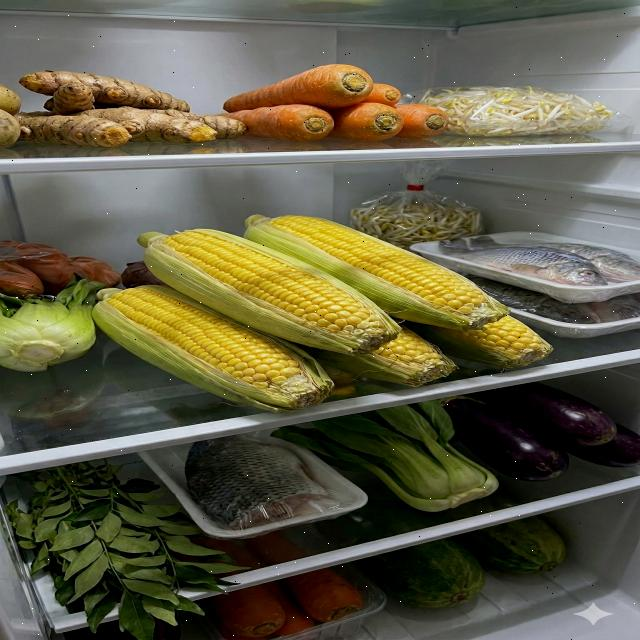bean_sprouts: (418, 86, 614, 138), (351, 204, 484, 252)
carrot: (216, 64, 449, 142), (216, 568, 364, 640)
corn: (91, 214, 554, 412)
curry_leaves: (0, 458, 253, 639)
eggplant: (442, 382, 640, 482)
fish: (184, 434, 330, 530), (438, 236, 640, 286)
pakchoy: (271, 400, 500, 512), (0, 279, 127, 373)
turmeric: (15, 70, 248, 149)
